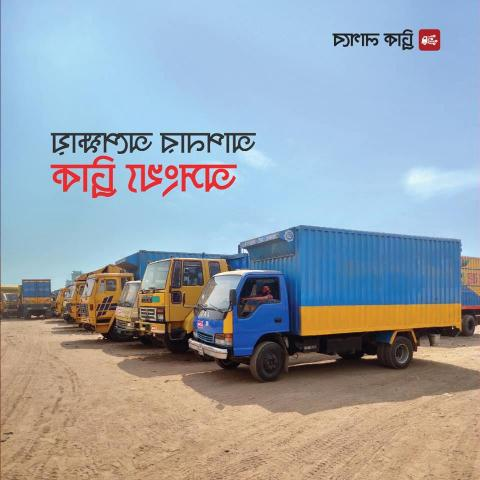truck: (187, 217, 463, 383), (141, 251, 192, 343), (79, 272, 115, 340), (116, 277, 147, 335), (20, 276, 56, 319), (1, 282, 21, 326), (63, 277, 77, 324)
